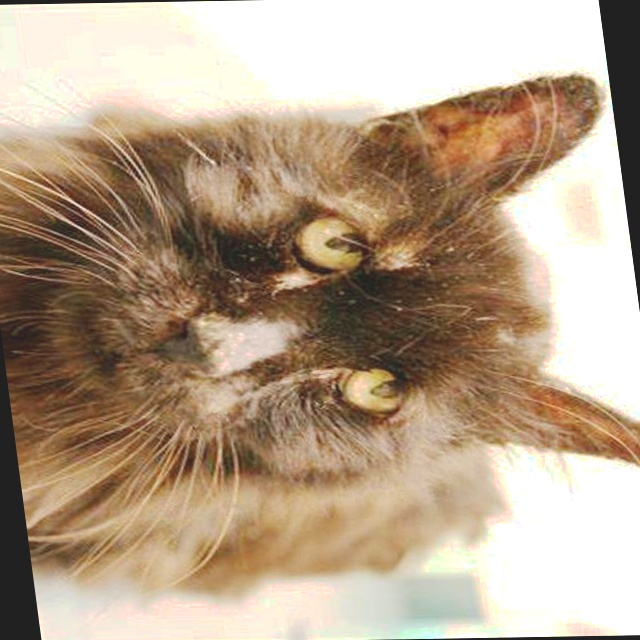ringworm: (438, 82, 591, 175)
